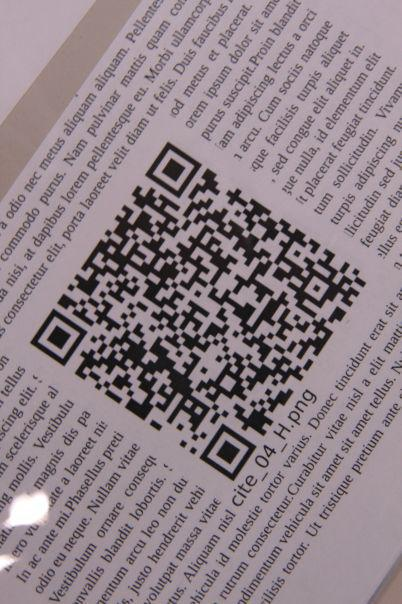Finder pattern: (30, 309, 88, 371), (199, 425, 259, 483), (143, 145, 199, 196)
